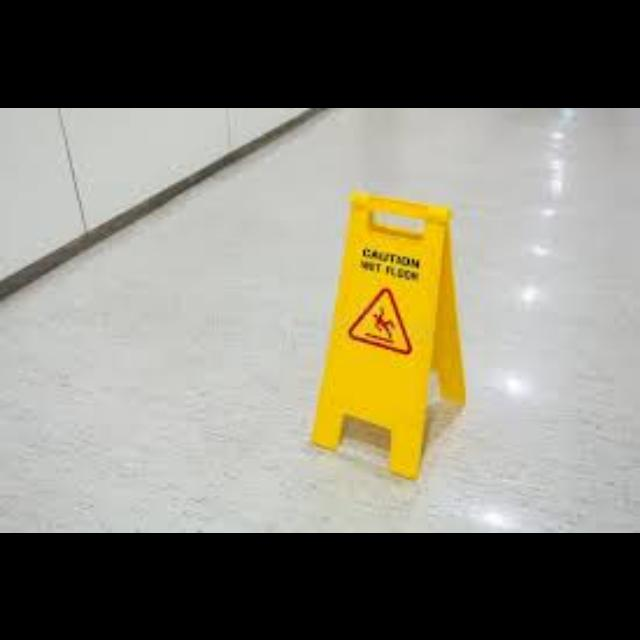tron truot: (312, 193, 463, 477)
